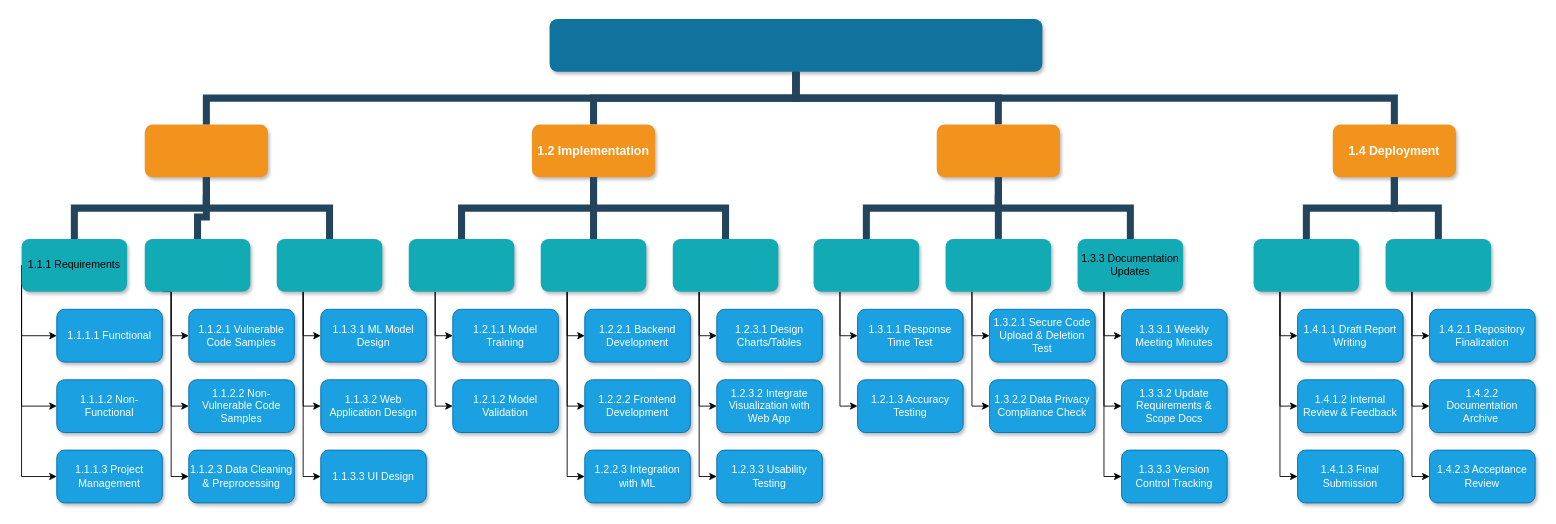
Image size: 1556x524. Some labels were removed from this diagram. Each missing label, with the centre of its shape:
1.0 Detecting Software Vulnerabilities Project: the point at 796,46
1.1 Planning: the point at 207,152
1.1.2 Dataset Preparation: the point at 198,266
1.1.3 System Design: the point at 330,266
1.2.1 ML Model Development: the point at 462,266
1.2.2 Web Application Development: the point at 594,266
1.2.3 Visualization Module: the point at 726,266
1.3 Monitoring & Control: the point at 999,152
1.3.1 Performance Testing: the point at 866,266
1.3.2 Security Testing: the point at 999,266
1.4.1 Final Report Submission: the point at 1306,266
1.4.2 Closure & Acceptance: the point at 1439,266
